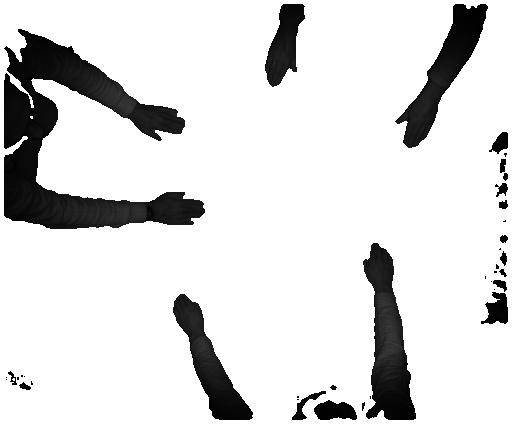hand: (392, 95, 440, 151), (139, 102, 191, 143), (153, 192, 207, 231), (264, 37, 303, 87), (360, 240, 399, 289), (168, 288, 206, 337)
